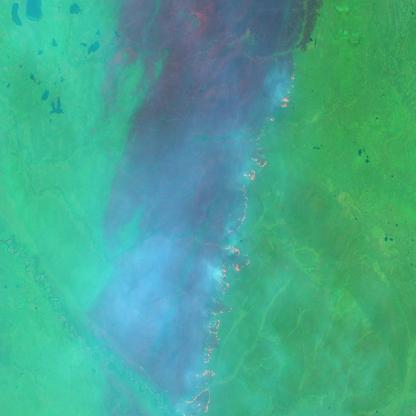fire: (180, 70, 297, 416)
